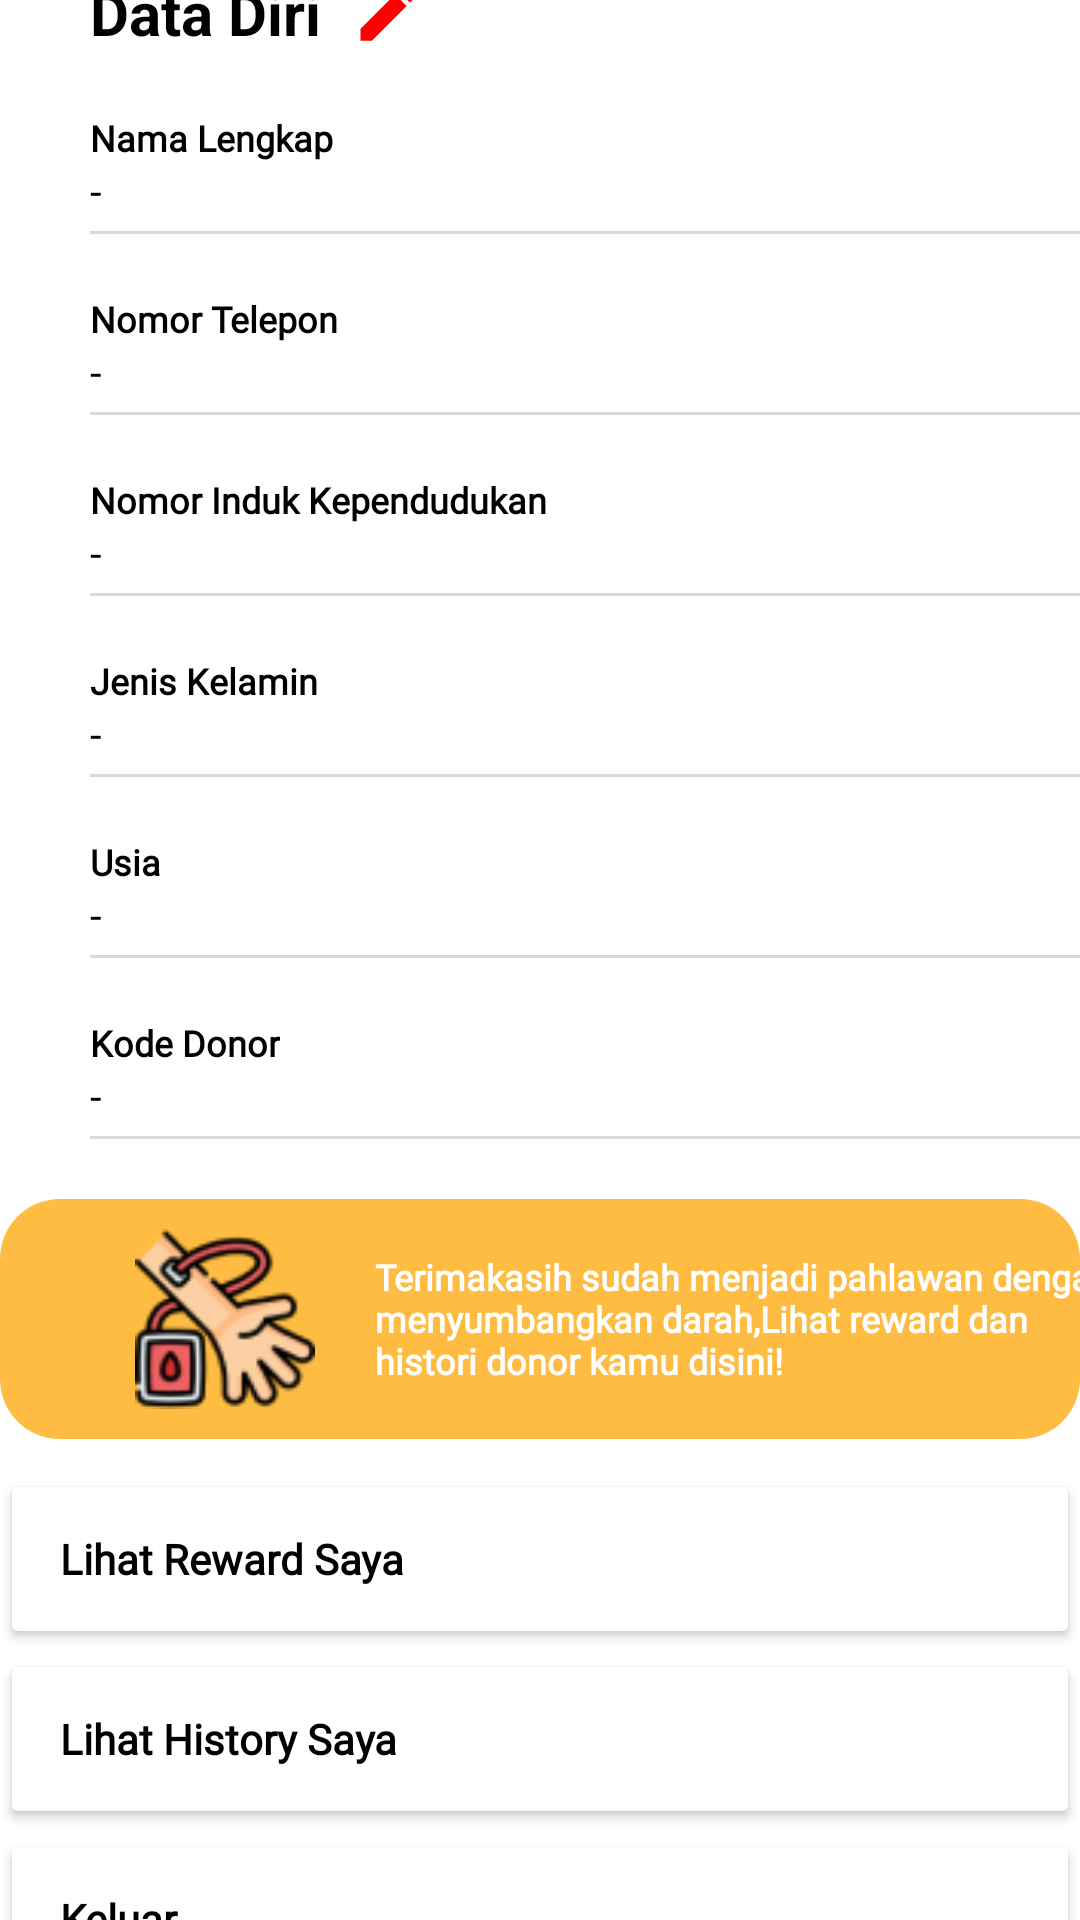

Screen size 1080×1920. Icon name, then its box in pixels as (x1, y1, x2, y2):
donoricon: (135, 1229, 315, 1409)
